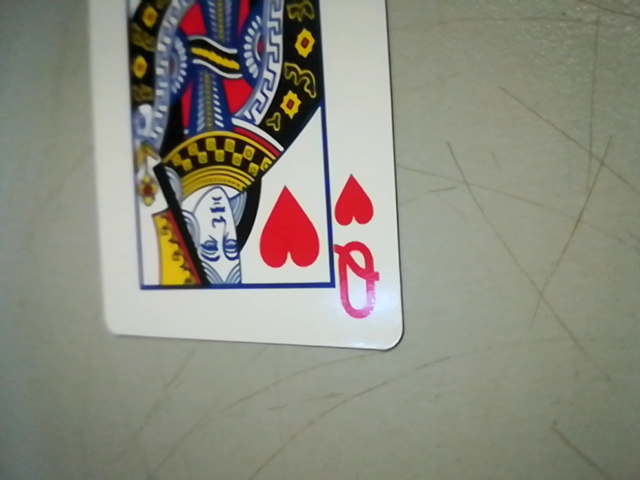hx q: (325, 166, 393, 336)
